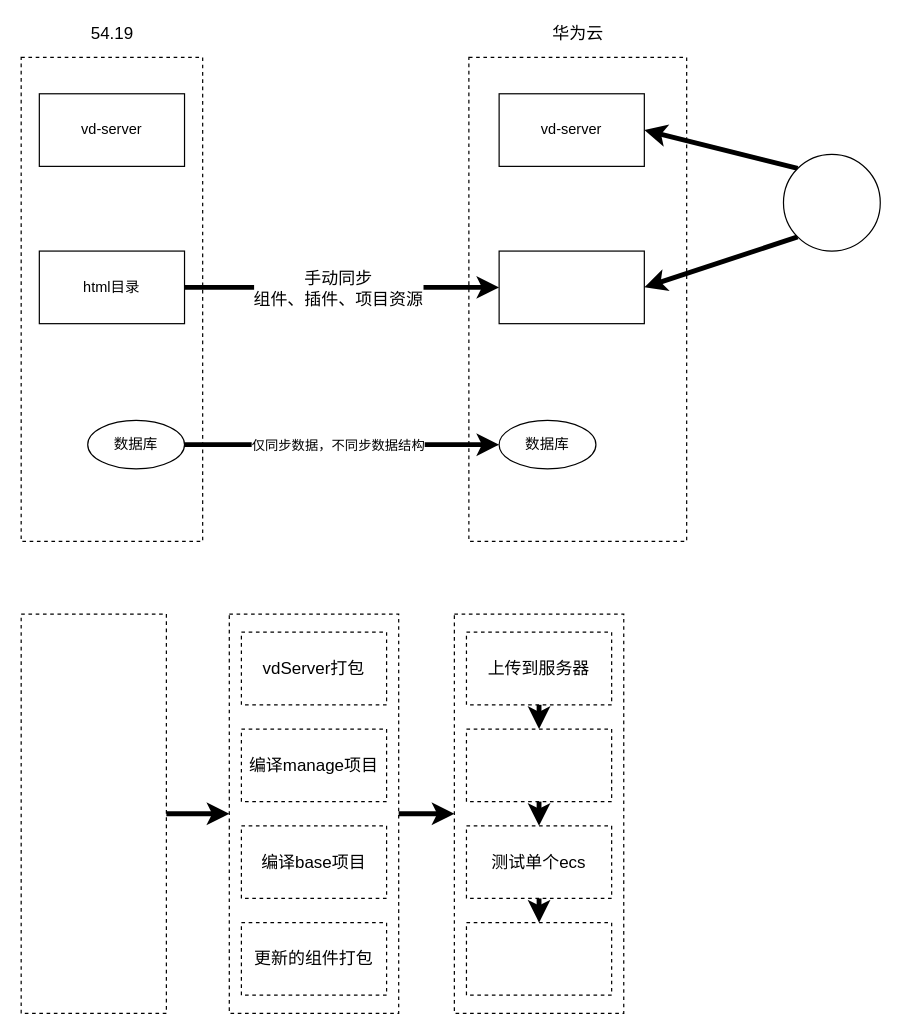
Some shapes in this 901 by 1035 pixel diagram are drawn without their labels. The shapes that lost their labels are listed below. From the top down, each one's centre as x and y in pixels, then its label:
the point at 831,202: 新部署包
the point at 571,287: html目录 （sfs云盘）
the point at 538,765: 解压更新配置 重启服务
the point at 93,813: 各子系统代码 git tag 标记版本
the point at 538,958: 更新到其他ecs
